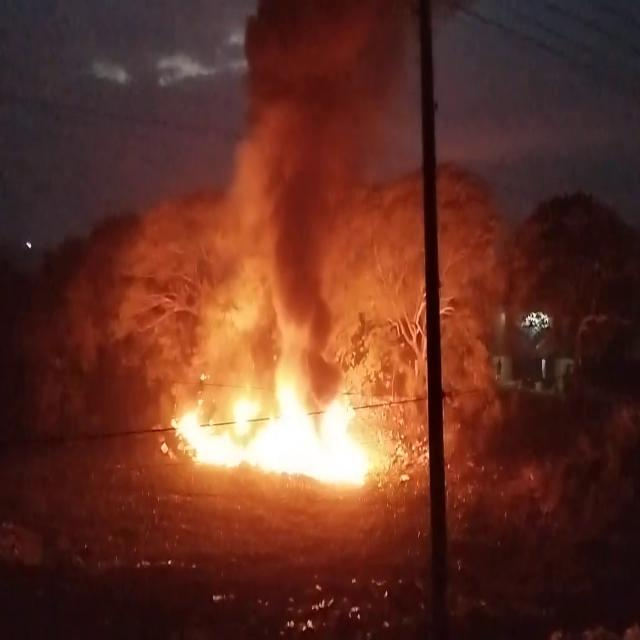Fire: (157, 356, 400, 494)
Smoke: (208, 0, 440, 343)
